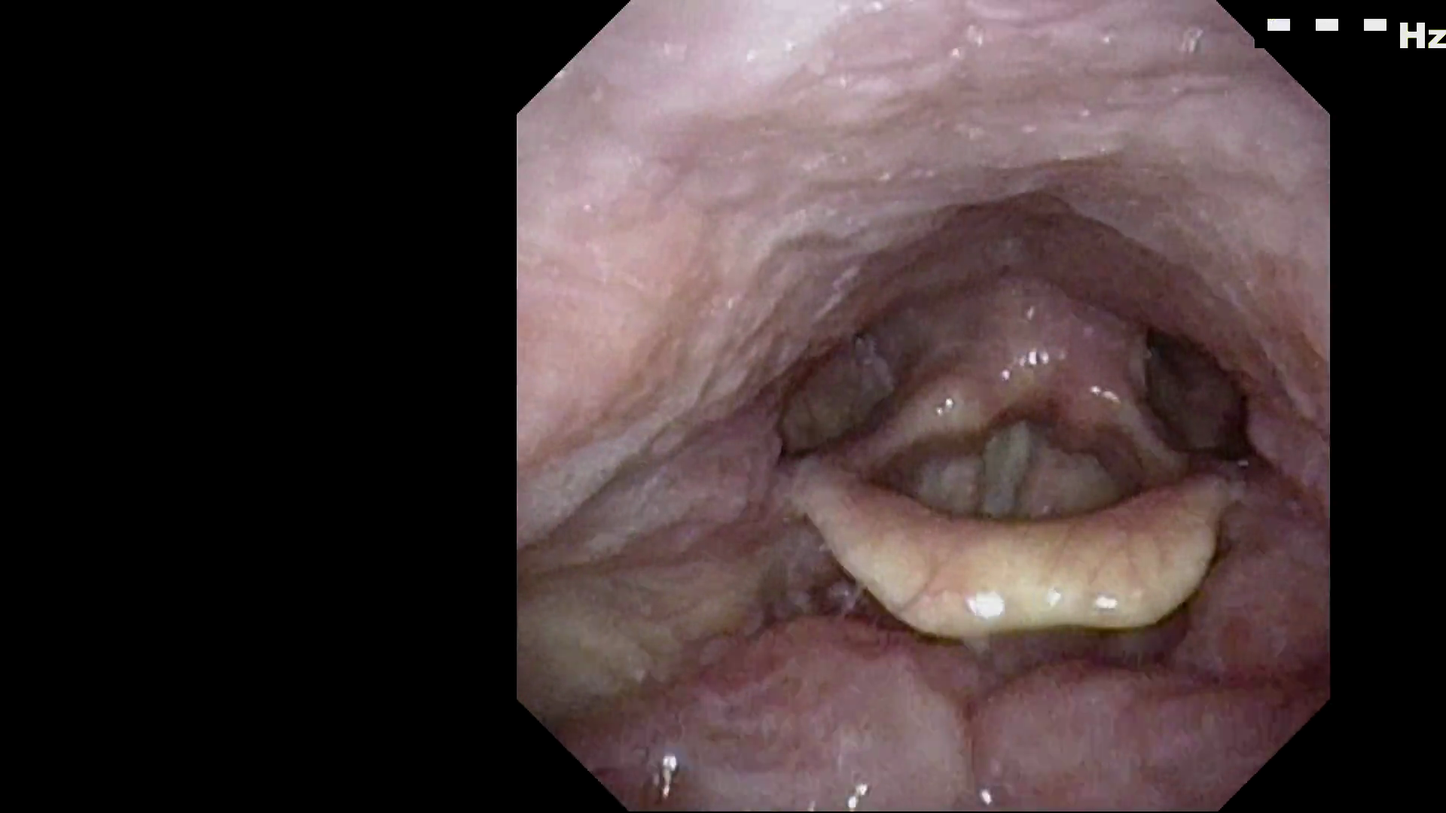epiglottis: (759, 436, 1248, 658)
trachea: (949, 396, 1054, 522)
